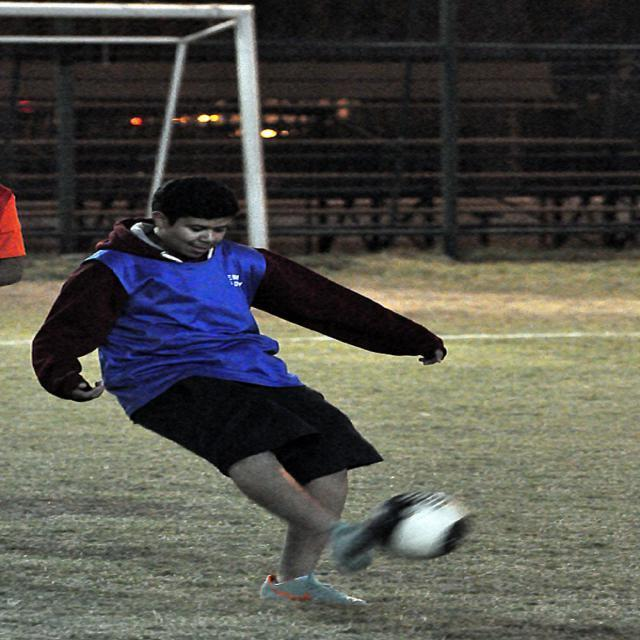football: (367, 481, 469, 582)
